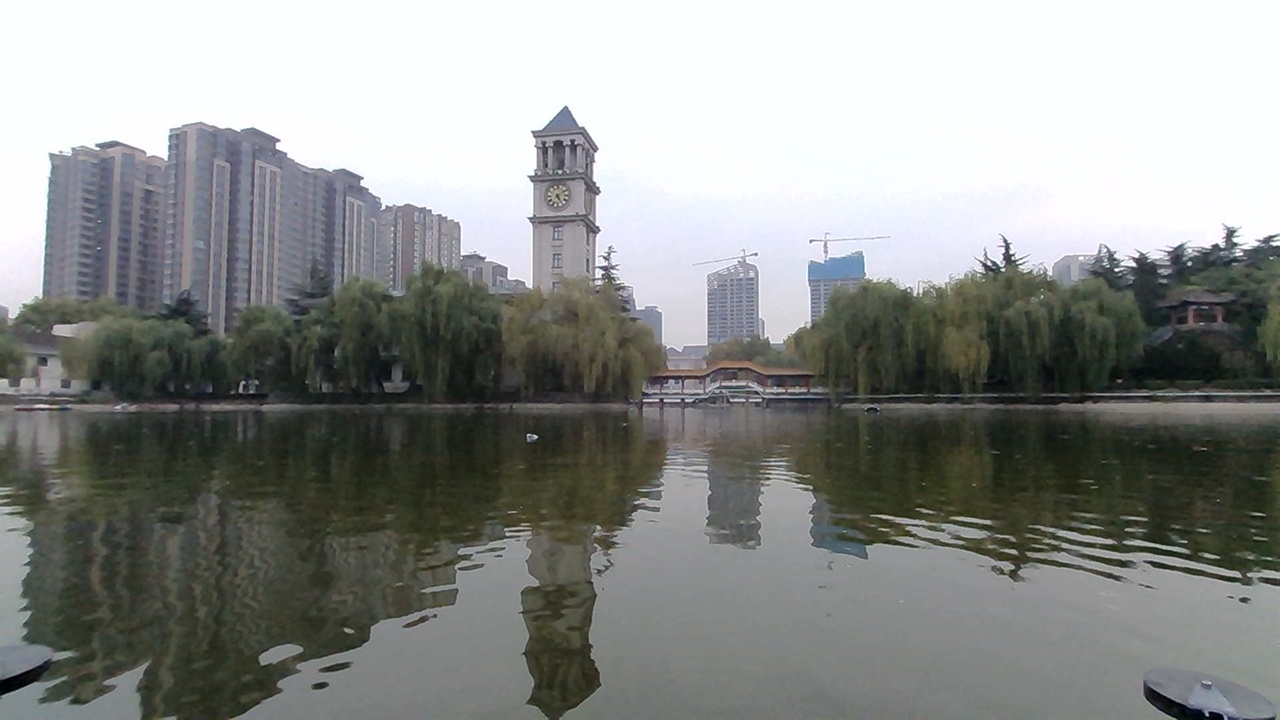bottle: (512, 424, 552, 452)
